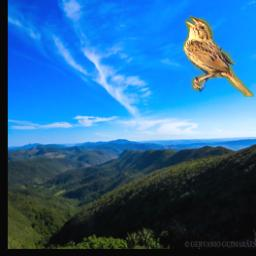Sparrow: (184, 16, 255, 98)
